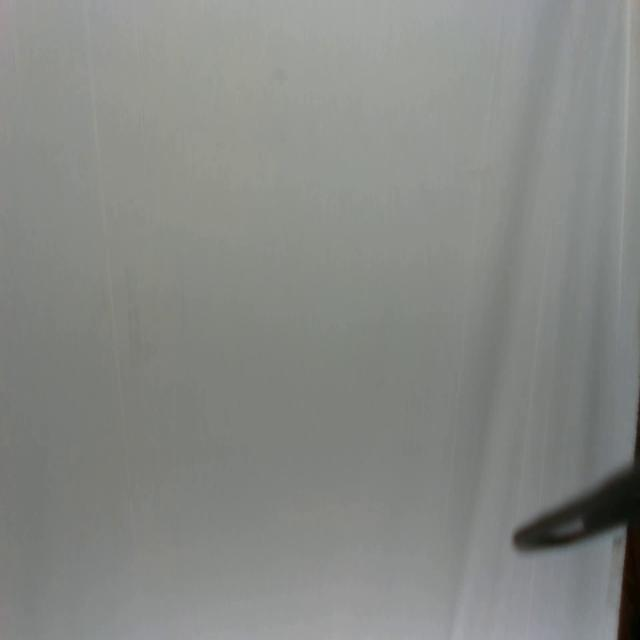crease: (81, 0, 147, 622), (516, 228, 556, 508), (617, 0, 636, 326)
